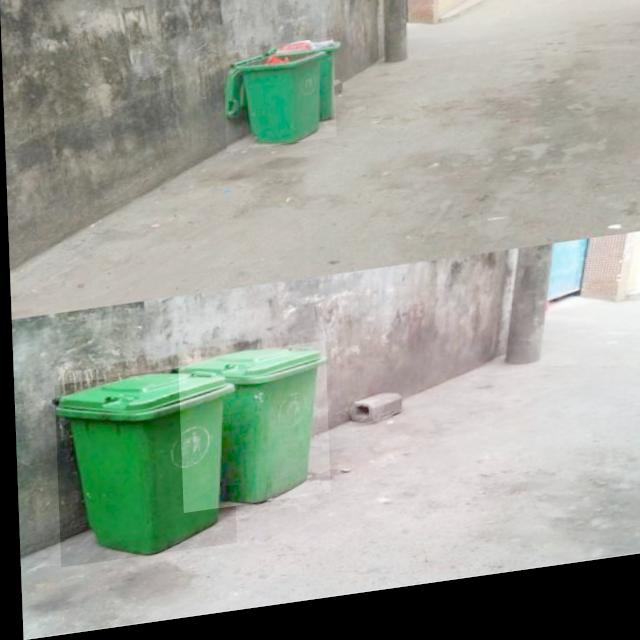garbage_bin: (51, 367, 233, 568), (175, 349, 327, 518)
overflow: (222, 47, 335, 159)
